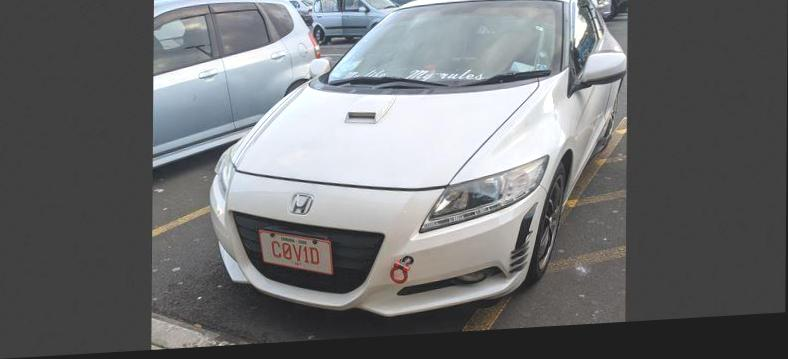License_Plate: (253, 218, 338, 283)
